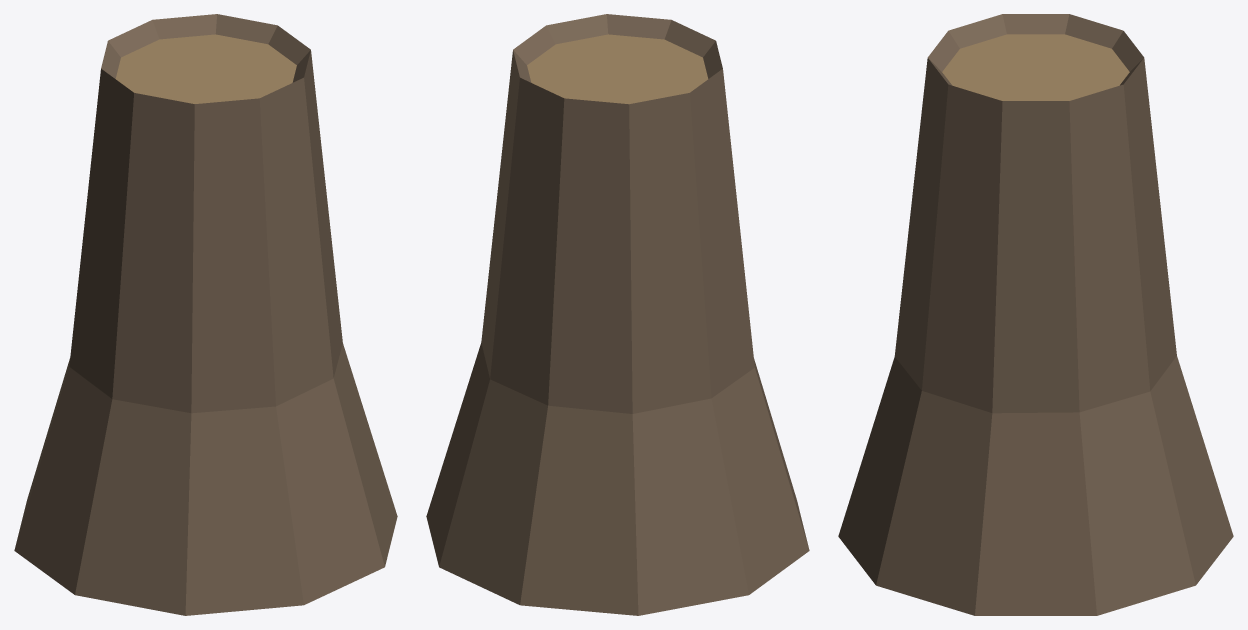
File: Evergreen_chopped.fbx
The picture shows the model from 3 angles, left to right: view 1: azimuth 30°, elevation 25°; view 2: azimuth 150°, elevation 25°; view 3: azimuth 270°, elevation 25°; orthographic projection.
Parts seen in each view (by area): view 1: Evergreen_choped; view 2: Evergreen_choped; view 3: Evergreen_choped.
Boxes of the visible parts, bbox=[...] form: Evergreen_choped: bbox=[14, 14, 397, 615]; Evergreen_choped: bbox=[426, 14, 809, 615]; Evergreen_choped: bbox=[838, 14, 1233, 615].
Bounding box in the file's own units: 104 × 146 × 109.
